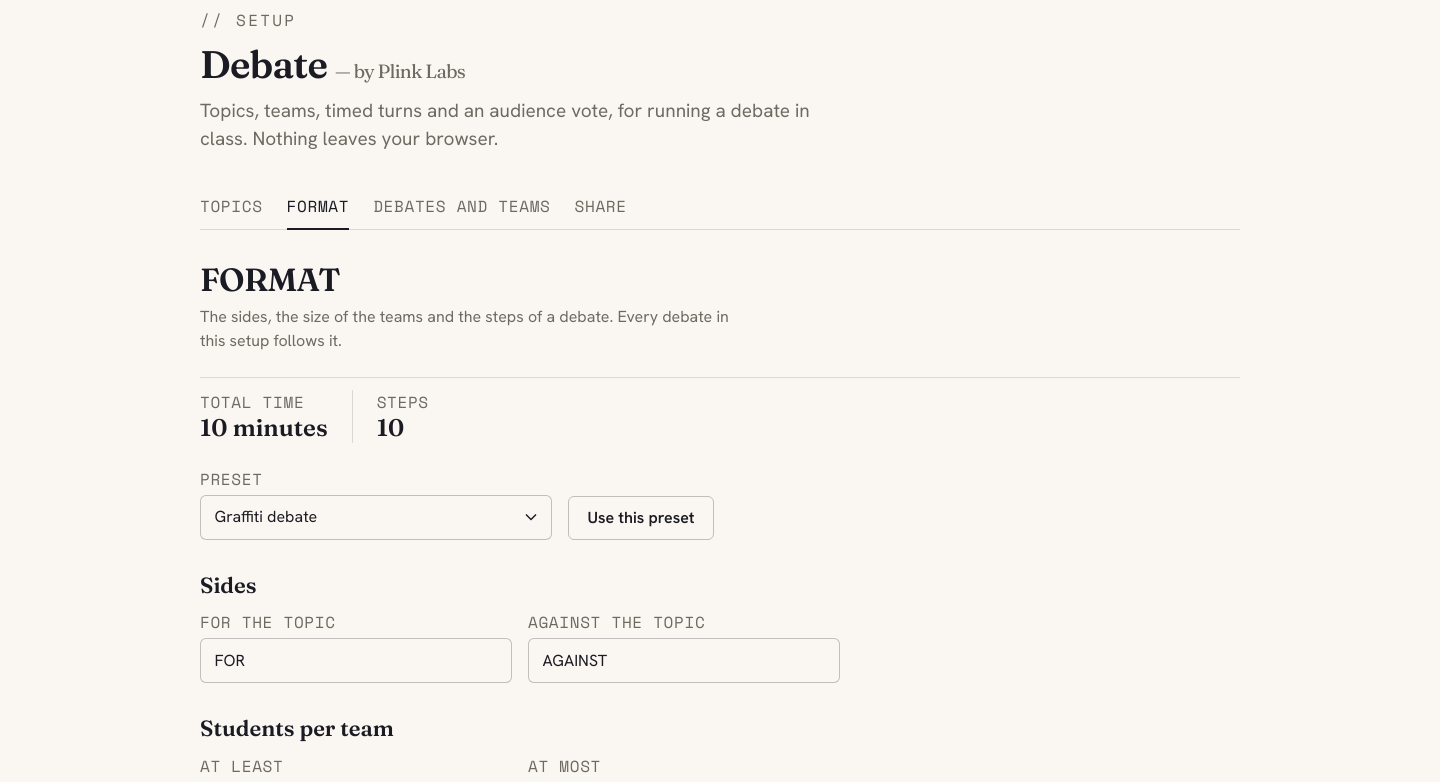
Test: the format › takes the prep time of a preset, or none
Select "Karl Popper debate" in the dropdown labelled "Preset" at (376, 517), box [200,495,552,540]
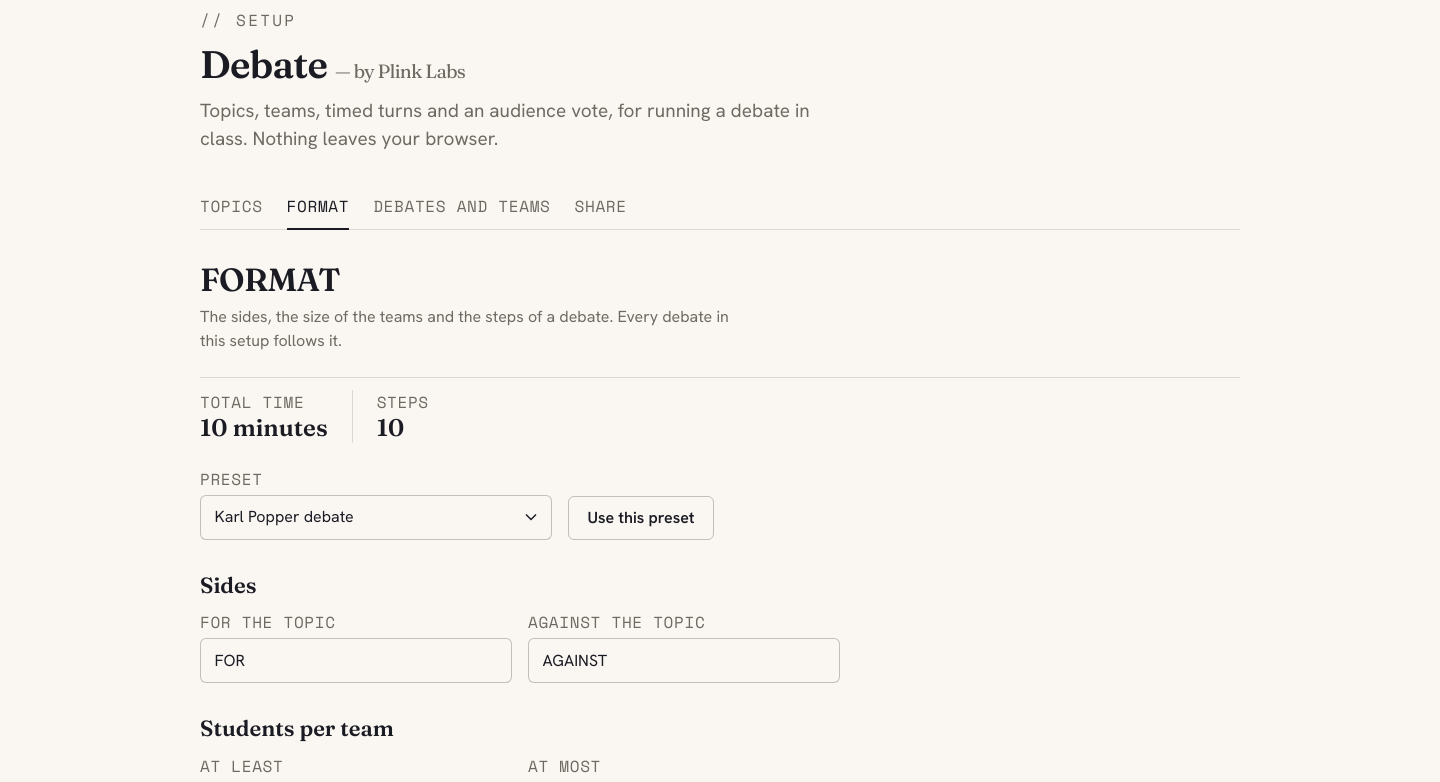
Click the button "Use this preset" at (641, 518), box [568,496,714,540]
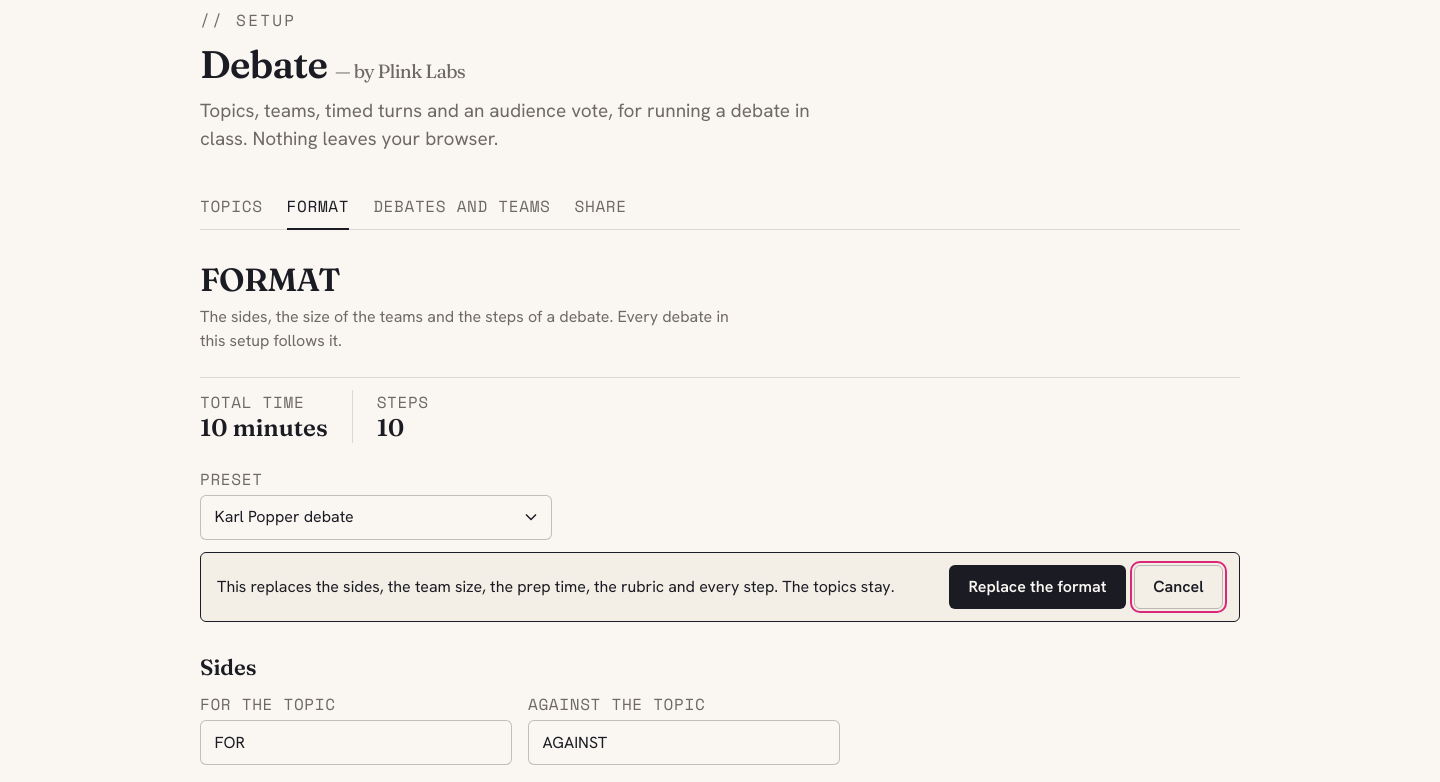
Click the button "Replace the format" at (1038, 587), box [949,565,1126,609]
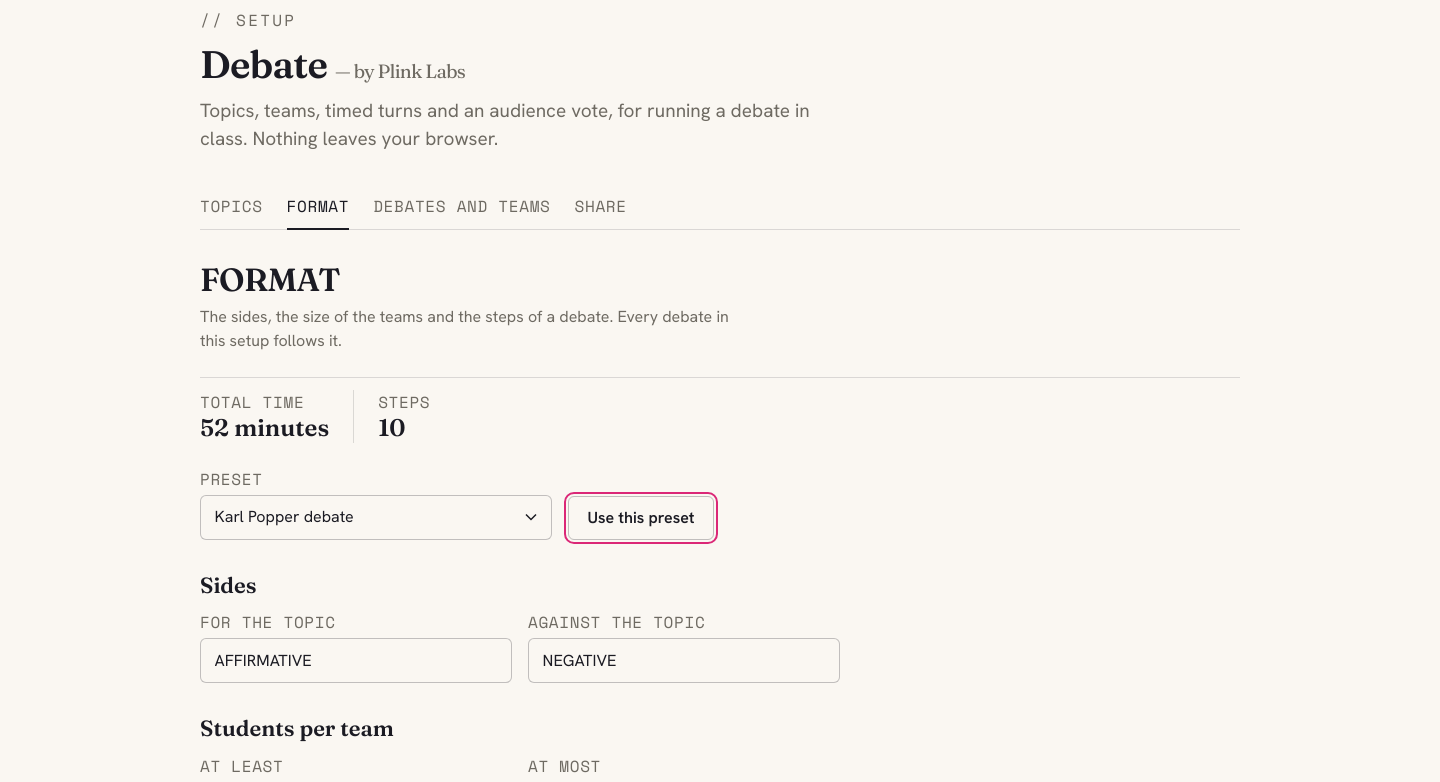
expect the text "52 minutes" is shown: met, box [200,414,329,443]
Select "Graffiti debate" in the dropdown labelled "Preset" at (376, 517), box [200,495,552,540]
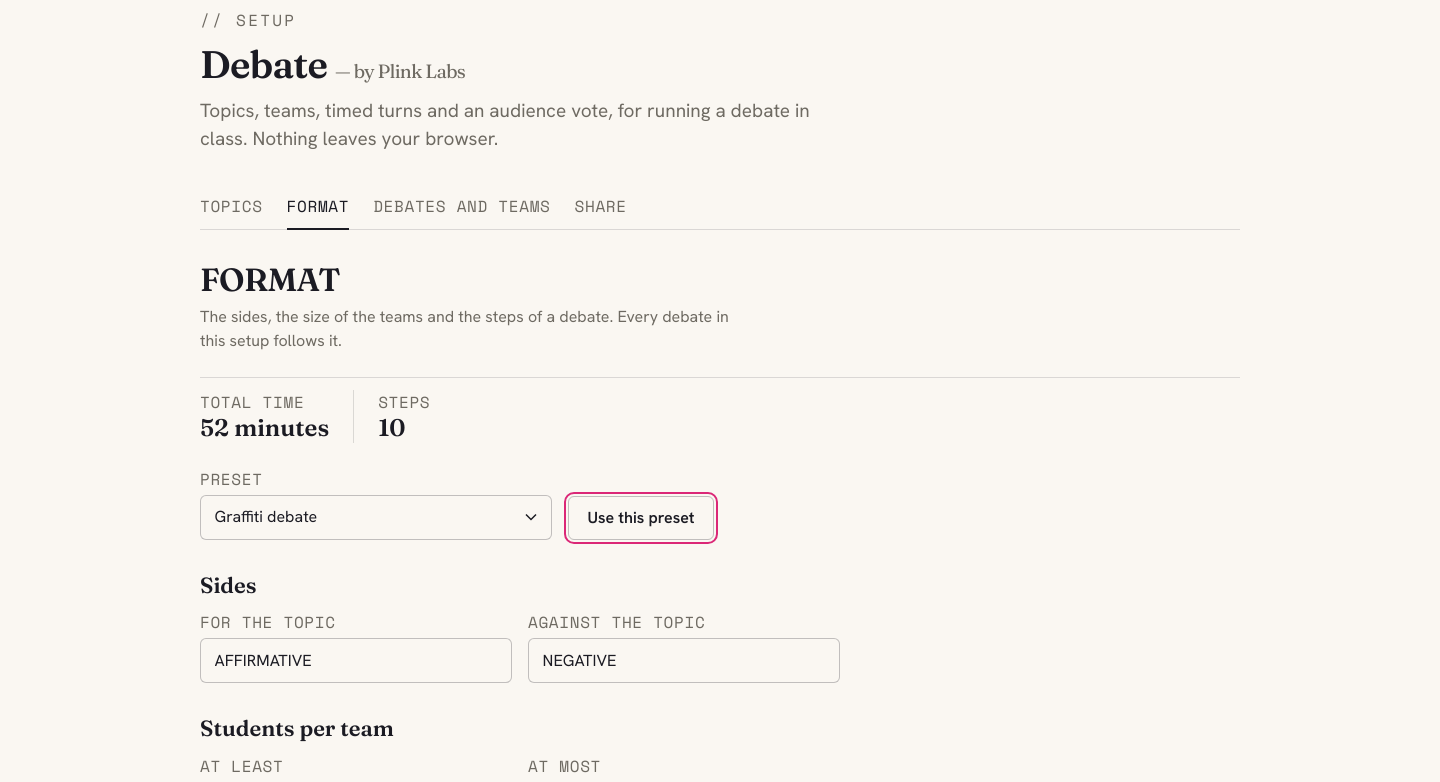
Click the button "Use this preset" at (641, 518), box [568,496,714,540]
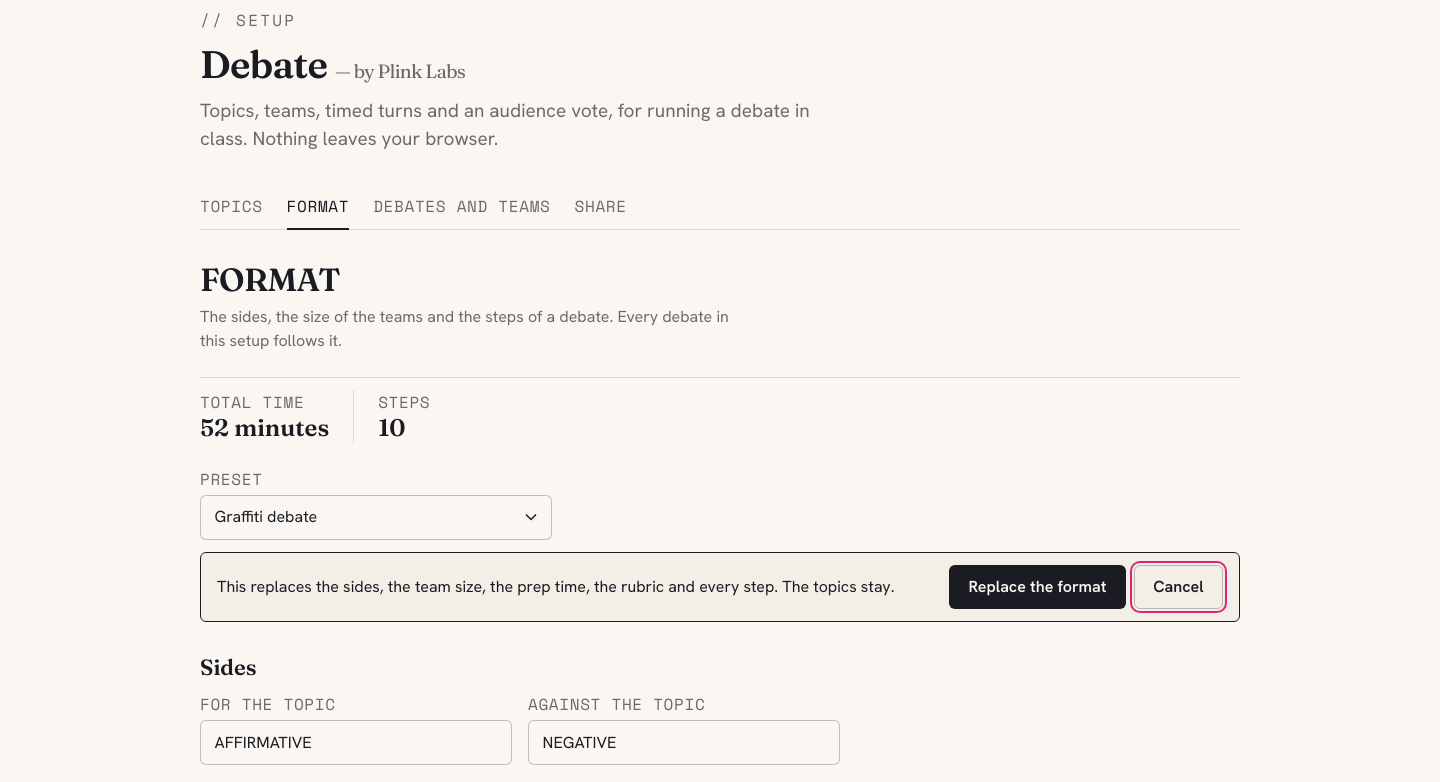
Click the button "Replace the format" at (1038, 587), box [949,565,1126,609]
(page scrolled)
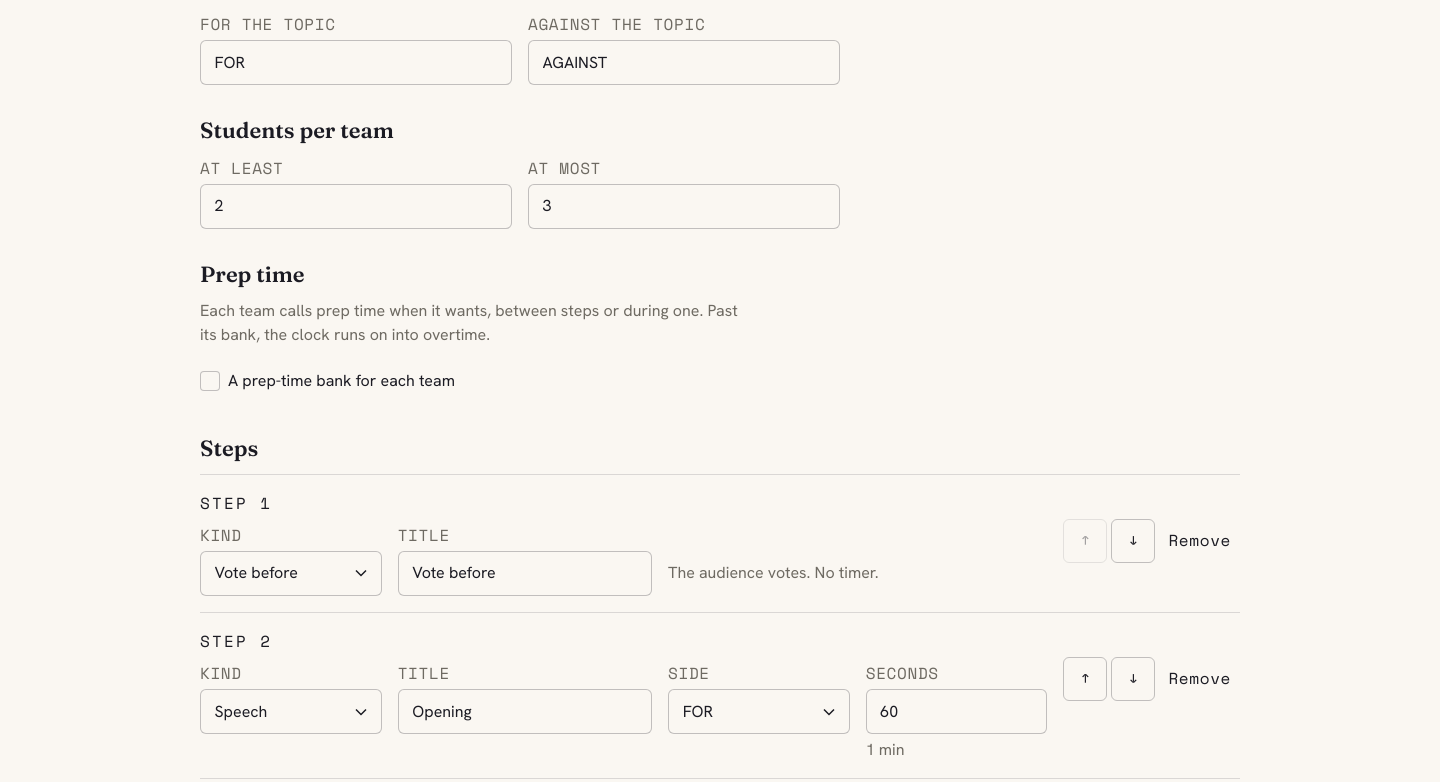
expect the checkbox is not checked: met, box [200,370,455,391]
